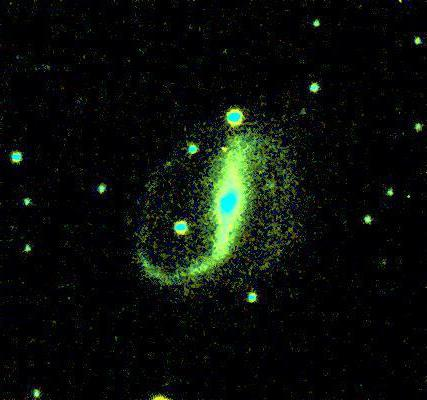star: (210, 132, 240, 162)
